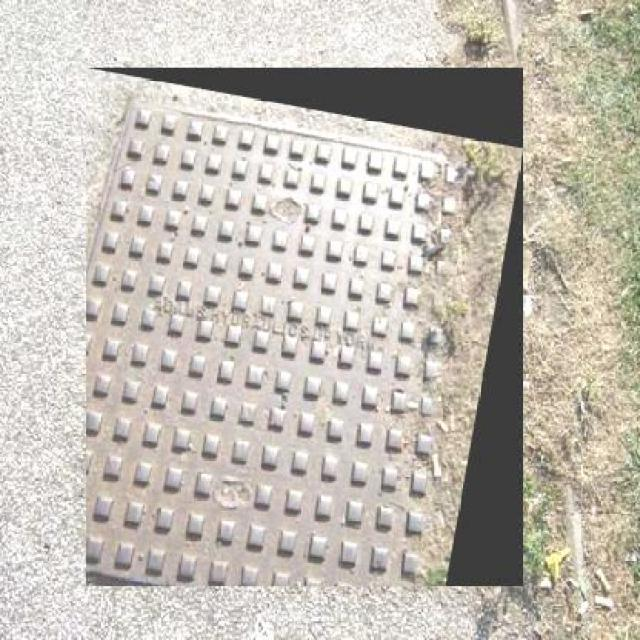Manhole: (86, 68, 523, 586)
